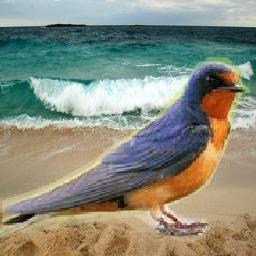Swallow: (0, 56, 251, 247)
